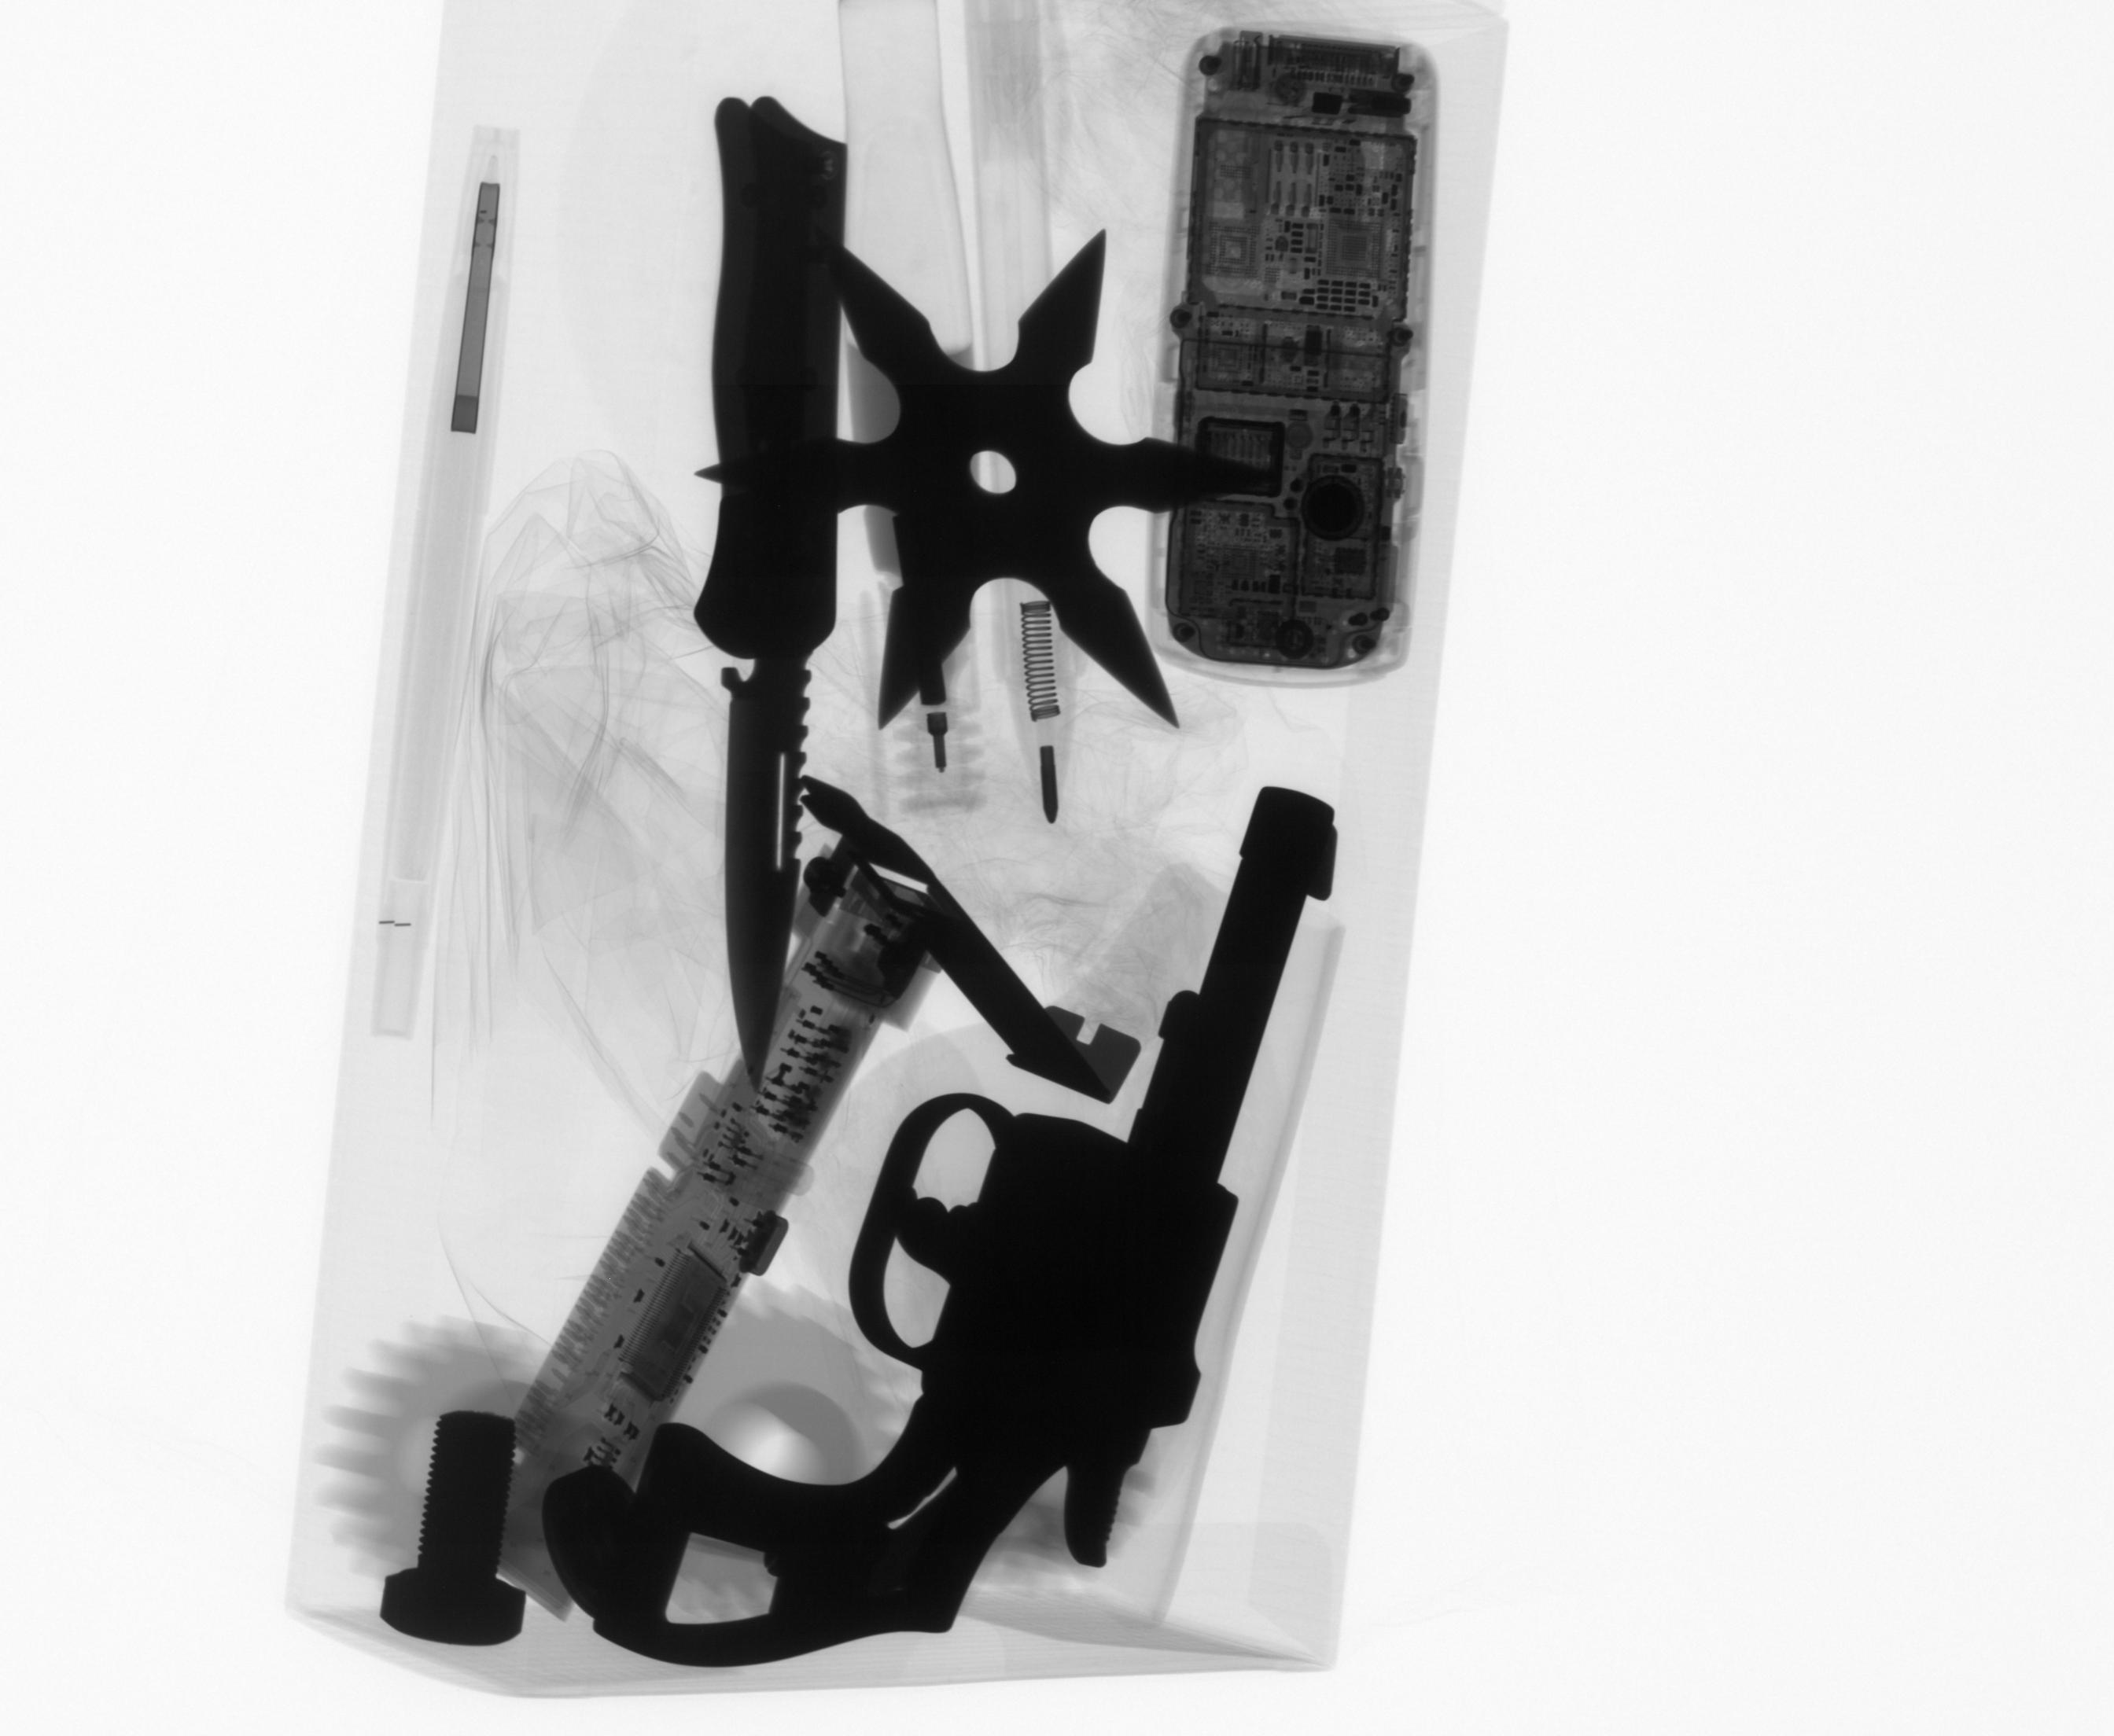Handgun: (583, 778, 1350, 1676)
Knife: (660, 82, 859, 1101)
Shuriken: (681, 216, 1294, 746)
